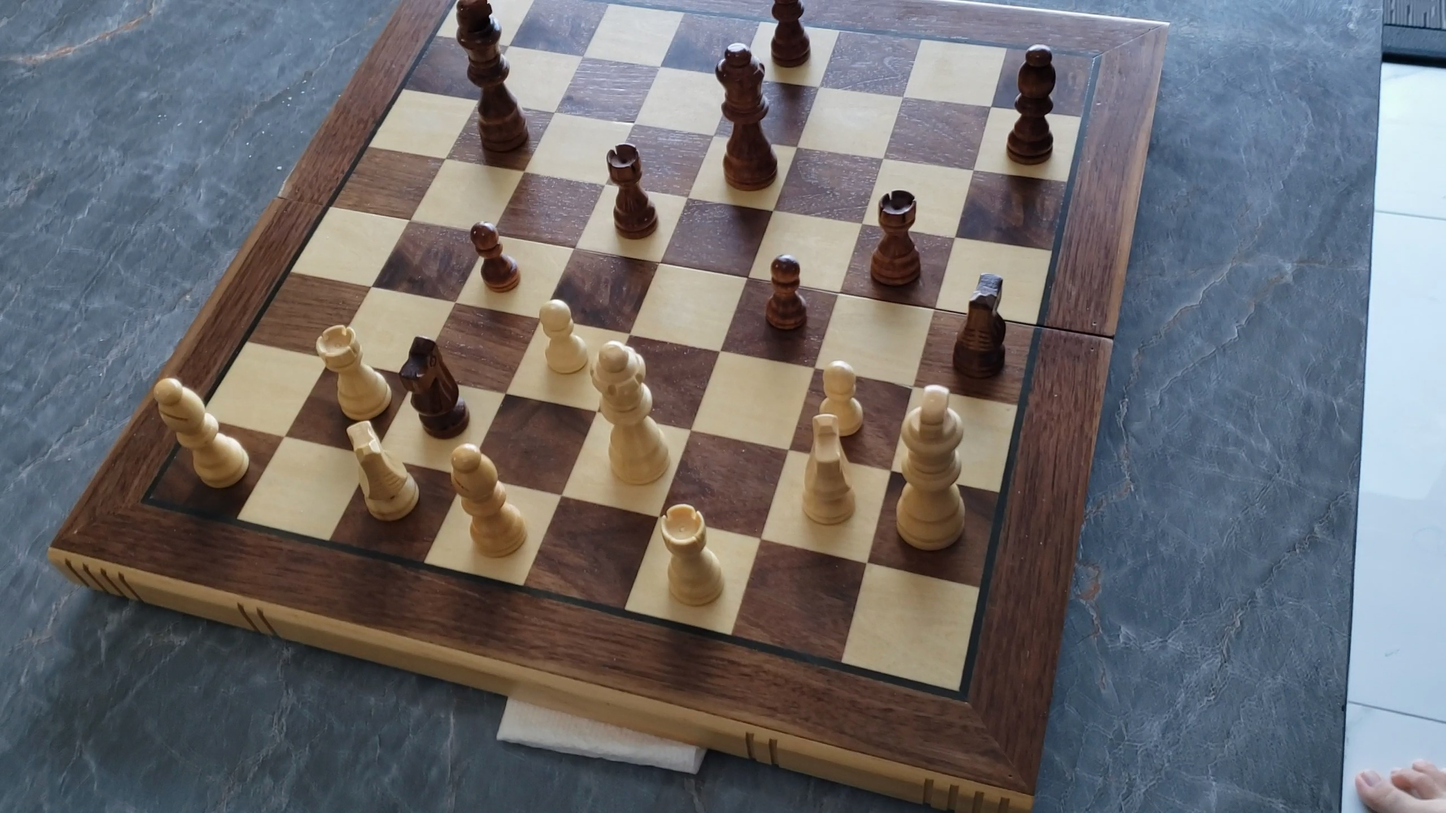black-bishop: (995, 39, 1059, 174)
black-king: (452, 0, 530, 156)
black-knight: (947, 272, 1018, 386), (398, 333, 472, 438)
black-pawn: (465, 217, 523, 295), (763, 250, 809, 335)
black-queen: (711, 37, 780, 191)
black-rook: (868, 187, 924, 290), (602, 140, 659, 241)
white-bishop: (147, 374, 254, 493), (445, 442, 530, 562)
white-king: (888, 381, 972, 557)
white-knight: (340, 418, 424, 527), (799, 410, 858, 529)
white-pawn: (533, 295, 592, 379), (817, 359, 868, 443)
white-queen: (584, 339, 674, 490)
white-rook: (312, 321, 393, 425), (654, 500, 729, 611)
